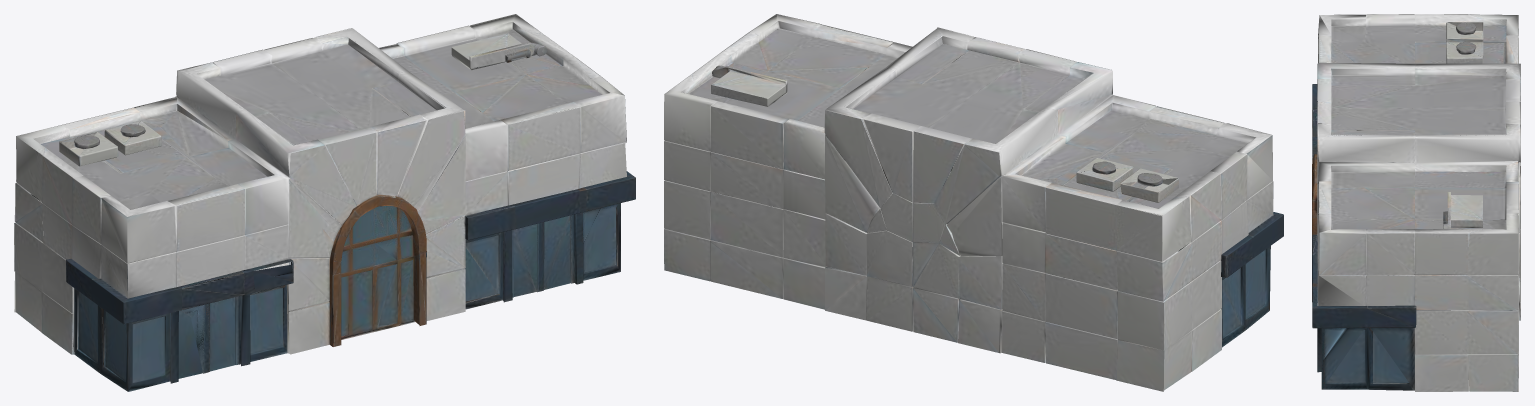
File: 13-shopping-mall.glb
3 views of the same model, side by side, from view 1: azimuth 30°, elevation 25°; view 2: azimuth 150°, elevation 25°; view 3: azimuth 270°, elevation 25° (orthographic). The views are drawn at different scales.
Parts seen in each view (by area): view 1: geometry_0; view 2: geometry_0; view 3: geometry_0.
Boxes of the visible parts, <box> form: geometry_0: <box>14,14,635,391</box>; geometry_0: <box>664,14,1283,391</box>; geometry_0: <box>1312,14,1520,391</box>.
Bounding box in the file's own units: 0.9507 × 0.3564 × 0.3733.
Materials: 1 (1 with a texture image).
